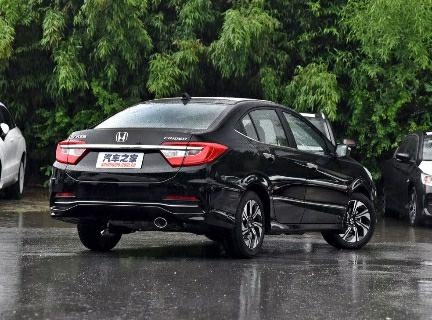car: (45, 84, 393, 264)
